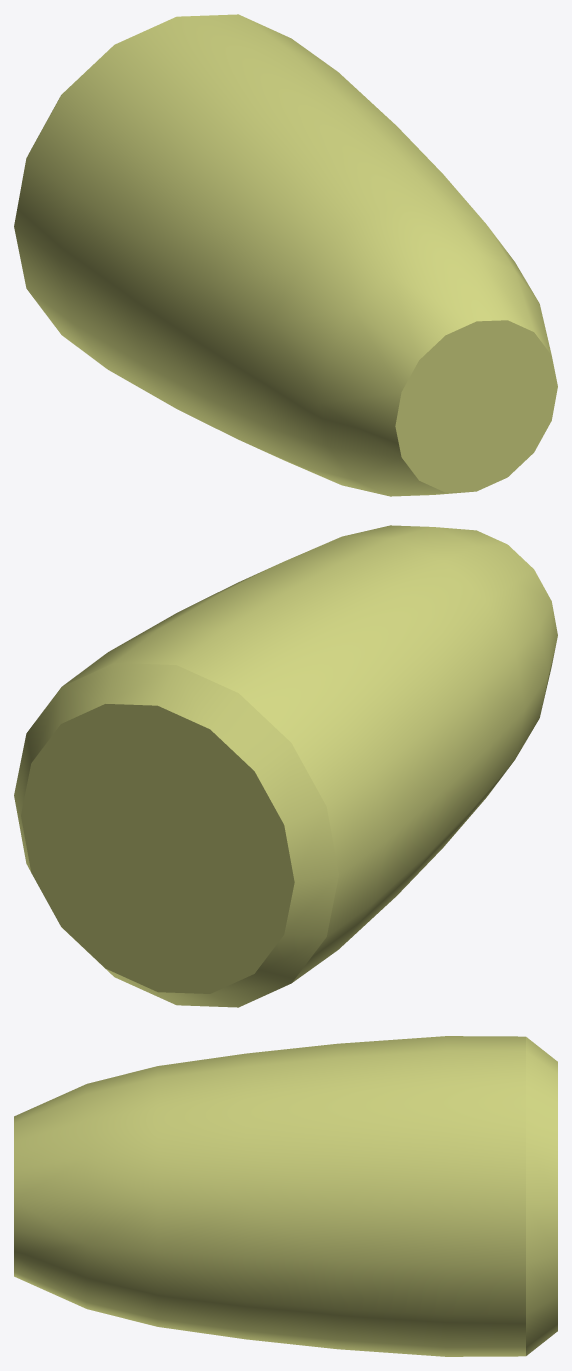
File: MeshSoapBottleVolume_9_1.obj
The picture shows the model from 3 angles, top to bottom: view 1: azimuth 30°, elevation 25°; view 2: azimuth 150°, elevation 25°; view 3: azimuth 270°, elevation 25°; orthographic projection. The views are drawn at different scales.
Parts seen in each view (by area): view 1: SoapBottleVolume_9; view 2: SoapBottleVolume_9; view 3: SoapBottleVolume_9.
Boxes of the visible parts, x1,y1,x2,y2 form: SoapBottleVolume_9: (14, 14, 557, 496); SoapBottleVolume_9: (14, 525, 557, 1007); SoapBottleVolume_9: (14, 1036, 557, 1356).
Size of the model in its own units: 0.1003 by 0.1003 by 0.1698.
